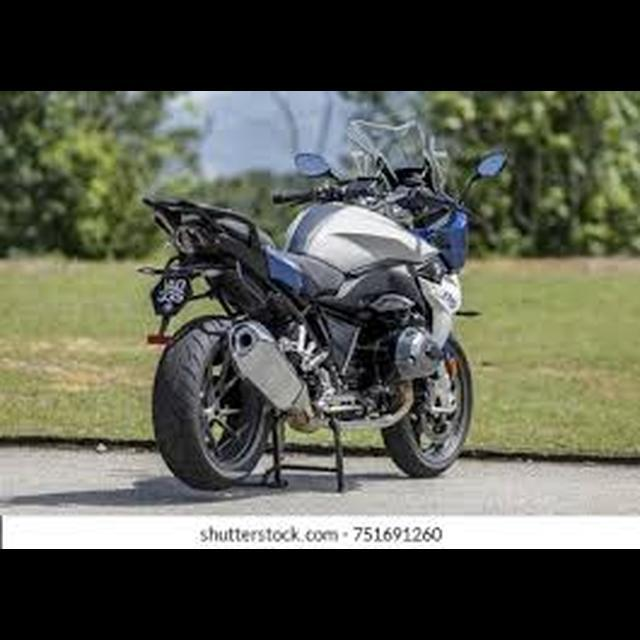motorcycle: (137, 113, 512, 496)
